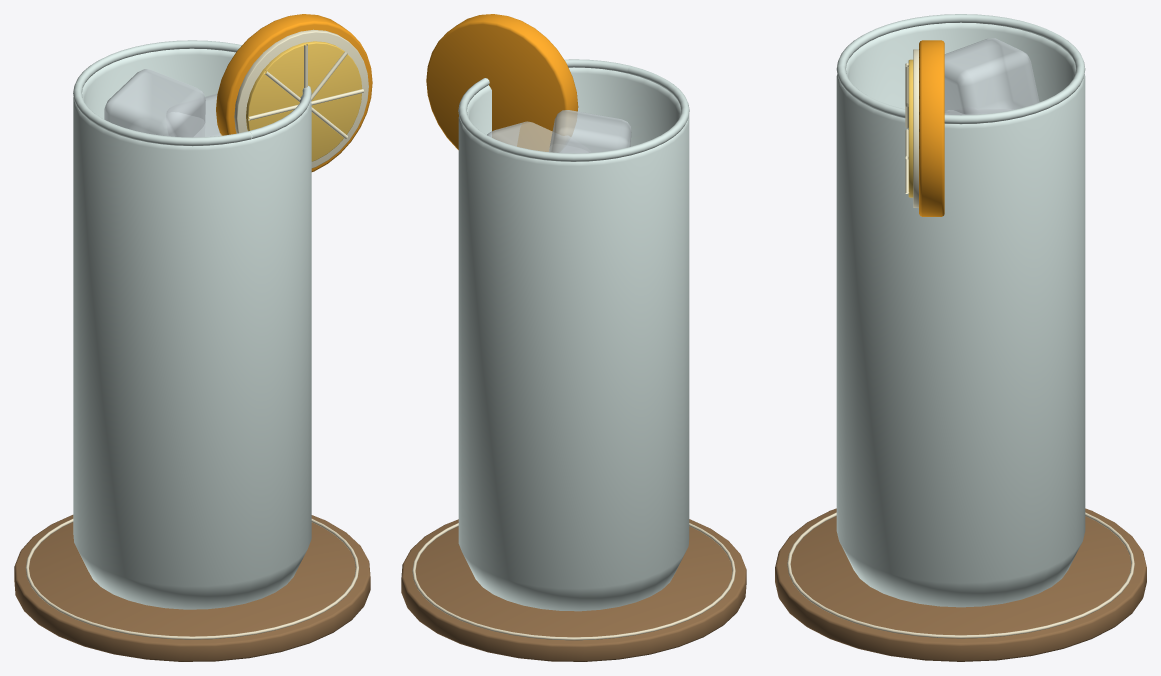
Rendered from drink-citrus.glb.
3 views of the same model, side by side, from view 1: azimuth 30°, elevation 25°; view 2: azimuth 150°, elevation 25°; view 3: azimuth 270°, elevation 25° (orthographic). The views are drawn at different scales.
Parts seen in each view (by area): view 1: drink-citrus; view 2: drink-citrus; view 3: drink-citrus.
Boxes of the visible parts, x1,y1,x2,y2 form: drink-citrus: [14, 14, 372, 661]; drink-citrus: [401, 14, 746, 661]; drink-citrus: [775, 14, 1146, 661].
Bounding box in the file's own units: 0.327 × 0.551 × 0.32.
